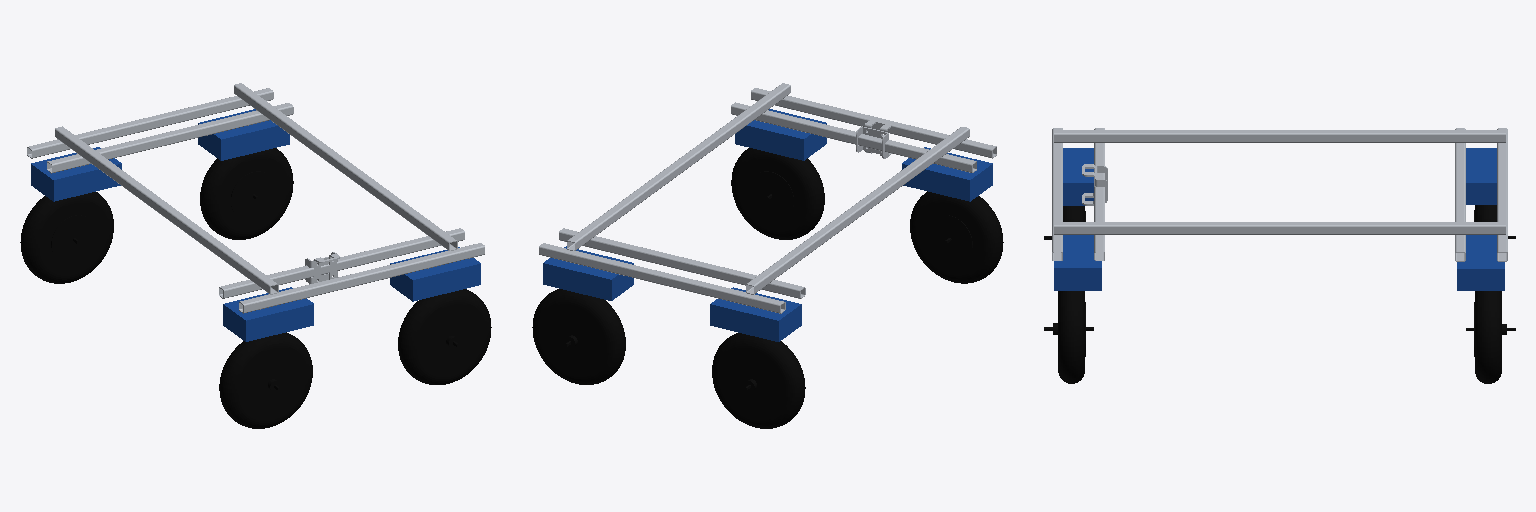
The robot description file, URDF, robot "agrobot_atd":
<?xml version="1.0"?>
<!-- Gegenereerd uit Agrobot_assem.STEP (SolidWorks 2025). Frames volgens REP-103: x vooruit, y links, z omhoog. -->
<!-- Massa's zijn schattingen (aluminium 2700 kg/m3, accu 2000 kg/m3, wiel 8 kg). Pas aan naar gewogen waarden. -->
<robot name="agrobot_atd">
  <material name="aluminium"><color rgba="0.75 0.77 0.80 1"/></material>
  <material name="dark_grey"><color rgba="0.25 0.27 0.30 1"/></material>
  <material name="battery_blue"><color rgba="0.15 0.35 0.65 1"/></material>
  <material name="rubber"><color rgba="0.08 0.08 0.08 1"/></material>

  <link name="base_footprint"/>
  <joint name="base_footprint_joint" type="fixed">
    <parent link="base_footprint"/>
    <child link="base_link"/>
    <origin xyz="0 0 0.2032" rpy="0 0 0"/>
  </joint>

  <link name="base_link">
    <visual name="chassis_frame">
      <origin xyz="0 0 0" rpy="0 0 0"/>
      <geometry><mesh filename="package://agrobot_description/meshes/chassis_frame.stl"/></geometry>
      <material name="aluminium"/>
    </visual>
    <visual name="battery">
      <origin xyz="0 0 0" rpy="0 0 0"/>
      <geometry><mesh filename="package://agrobot_description/meshes/battery.stl"/></geometry>
      <material name="battery_blue"/>
    </visual>
    <visual name="wheel_housing">
      <origin xyz="0 0 0" rpy="0 0 0"/>
      <geometry><mesh filename="package://agrobot_description/meshes/wheel_housing.stl"/></geometry>
      <material name="dark_grey"/>
    </visual>
    <collision>
      <origin xyz="-3.3307e-15 0.0005 0.369" rpy="0 0 0"/>
      <geometry><box size="1.0905 1.697 0.134"/></geometry>
    </collision>
    <collision>
      <origin xyz="0.39817 0.75825 0.21014" rpy="0 0 0"/>
      <geometry><box size="0.36784 0.2845 0.46172"/></geometry>
    </collision>
    <collision>
      <origin xyz="0.39618 -0.75825 0.21014" rpy="0 0 0"/>
      <geometry><box size="0.36785 0.2845 0.46172"/></geometry>
    </collision>
    <collision>
      <origin xyz="-0.39168 0.75825 0.21014" rpy="0 0 0"/>
      <geometry><box size="0.38084 0.2845 0.46172"/></geometry>
    </collision>
    <collision>
      <origin xyz="-0.38968 -0.75825 0.21014" rpy="0 0 0"/>
      <geometry><box size="0.38083 0.2845 0.46172"/></geometry>
    </collision>
    <inertial>
      <origin xyz="-0.0009285 -0.003204 0.27675" rpy="0 0 0"/>
      <mass value="83.045"/>
      <inertia ixx="47.581" ixy="-0.0077943" ixz="0.0063626" iyy="13.474" iyz="0.02521" izz="59.747"/>
    </inertial>
  </link>

  <link name="rear_left_wheel">
    <visual>
      <origin xyz="0 0 0" rpy="0 0 0"/>
      <geometry><mesh filename="package://agrobot_description/meshes/wheel_rear_left.stl"/></geometry>
      <material name="rubber"/>
    </visual>
    <collision>
      <origin xyz="0 0 0" rpy="1.5708 0 0"/>
      <geometry><cylinder radius="0.2032" length="0.0771"/></geometry>
    </collision>
    <inertial>
      <origin xyz="0 0 0" rpy="0 0 0"/>
      <mass value="8.0"/>
      <inertia ixx="0.086541" ixy="0" ixz="0" iyy="0.16516" iyz="0" izz="0.086541"/>
    </inertial>
  </link>
  <joint name="rear_left_wheel_joint" type="continuous">
    <parent link="base_link"/>
    <child link="rear_left_wheel"/>
    <origin xyz="-0.40525 0.776 -2.1094e-15" rpy="0 0 0"/>
    <axis xyz="0 1 0"/>
    <limit effort="40" velocity="20"/>
    <dynamics damping="0.1" friction="0.0"/>
  </joint>

  <link name="front_left_wheel">
    <visual>
      <origin xyz="0 0 0" rpy="0 0 0"/>
      <geometry><mesh filename="package://agrobot_description/meshes/wheel_front_left.stl"/></geometry>
      <material name="rubber"/>
    </visual>
    <collision>
      <origin xyz="0 0 0" rpy="1.5708 0 0"/>
      <geometry><cylinder radius="0.2032" length="0.0771"/></geometry>
    </collision>
    <inertial>
      <origin xyz="0 0 0" rpy="0 0 0"/>
      <mass value="8.0"/>
      <inertia ixx="0.086541" ixy="0" ixz="0" iyy="0.16516" iyz="0" izz="0.086541"/>
    </inertial>
  </link>
  <joint name="front_left_wheel_joint" type="continuous">
    <parent link="base_link"/>
    <child link="front_left_wheel"/>
    <origin xyz="0.40525 0.776 -1.9984e-15" rpy="0 0 0"/>
    <axis xyz="0 1 0"/>
    <limit effort="40" velocity="20"/>
    <dynamics damping="0.1" friction="0.0"/>
  </joint>

  <link name="front_right_wheel">
    <visual>
      <origin xyz="0 0 0" rpy="0 0 0"/>
      <geometry><mesh filename="package://agrobot_description/meshes/wheel_front_right.stl"/></geometry>
      <material name="rubber"/>
    </visual>
    <collision>
      <origin xyz="0 0 0" rpy="1.5708 0 0"/>
      <geometry><cylinder radius="0.2032" length="0.0771"/></geometry>
    </collision>
    <inertial>
      <origin xyz="0 0 0" rpy="0 0 0"/>
      <mass value="8.0"/>
      <inertia ixx="0.086541" ixy="0" ixz="0" iyy="0.16516" iyz="0" izz="0.086541"/>
    </inertial>
  </link>
  <joint name="front_right_wheel_joint" type="continuous">
    <parent link="base_link"/>
    <child link="front_right_wheel"/>
    <origin xyz="0.40325 -0.776 2.1649e-15" rpy="0 0 0"/>
    <axis xyz="0 1 0"/>
    <limit effort="40" velocity="20"/>
    <dynamics damping="0.1" friction="0.0"/>
  </joint>

  <link name="rear_right_wheel">
    <visual>
      <origin xyz="0 0 0" rpy="0 0 0"/>
      <geometry><mesh filename="package://agrobot_description/meshes/wheel_rear_right.stl"/></geometry>
      <material name="rubber"/>
    </visual>
    <collision>
      <origin xyz="0 0 0" rpy="1.5708 0 0"/>
      <geometry><cylinder radius="0.2032" length="0.0771"/></geometry>
    </collision>
    <inertial>
      <origin xyz="0 0 0" rpy="0 0 0"/>
      <mass value="8.0"/>
      <inertia ixx="0.086541" ixy="0" ixz="0" iyy="0.16516" iyz="0" izz="0.086541"/>
    </inertial>
  </link>
  <joint name="rear_right_wheel_joint" type="continuous">
    <parent link="base_link"/>
    <child link="rear_right_wheel"/>
    <origin xyz="-0.40325 -0.776 2.1094e-15" rpy="0 0 0"/>
    <axis xyz="0 1 0"/>
    <limit effort="40" velocity="20"/>
    <dynamics damping="0.1" friction="0.0"/>
  </joint>

</robot>

--- Facts derived from the render (not from the file) ---
Views: 3 orthographic renders of the robot side by side, from view 1: azimuth 30°, elevation 25°; view 2: azimuth 150°, elevation 25°; view 3: azimuth 270°, elevation 25°.
Robot: agrobot_atd — 6 links, 5 joints (4 continuous, 1 fixed); root link base_footprint; default pose: all joints at 0.
Visible links, largest first — view 1: base_link, rear_right_wheel, front_right_wheel, rear_left_wheel, front_left_wheel; view 2: base_link, front_left_wheel, rear_left_wheel, rear_right_wheel, front_right_wheel; view 3: base_link, front_right_wheel, front_left_wheel.
Boxes of the visible links, x1,y1,x2,y2 form: base_link: (27,83,484,341); rear_right_wheel: (219,332,312,428); front_right_wheel: (398,289,491,384); rear_left_wheel: (20,192,113,283); front_left_wheel: (200,148,293,239); base_link: (539,83,996,341); front_left_wheel: (532,289,625,384); rear_left_wheel: (712,333,805,428); rear_right_wheel: (910,191,1003,283); front_right_wheel: (731,148,824,239); base_link: (1052,128,1507,290); front_right_wheel: (1044,291,1093,383); front_left_wheel: (1466,291,1515,383).
Size in the robot's own frame: 1.22 by 1.75 by 0.6392 metres.
Meshes: 7 distinct files referenced, 6 mesh visuals loaded (6 binary STL); not drawn: 1 (reference not matched to a file when rendering).
